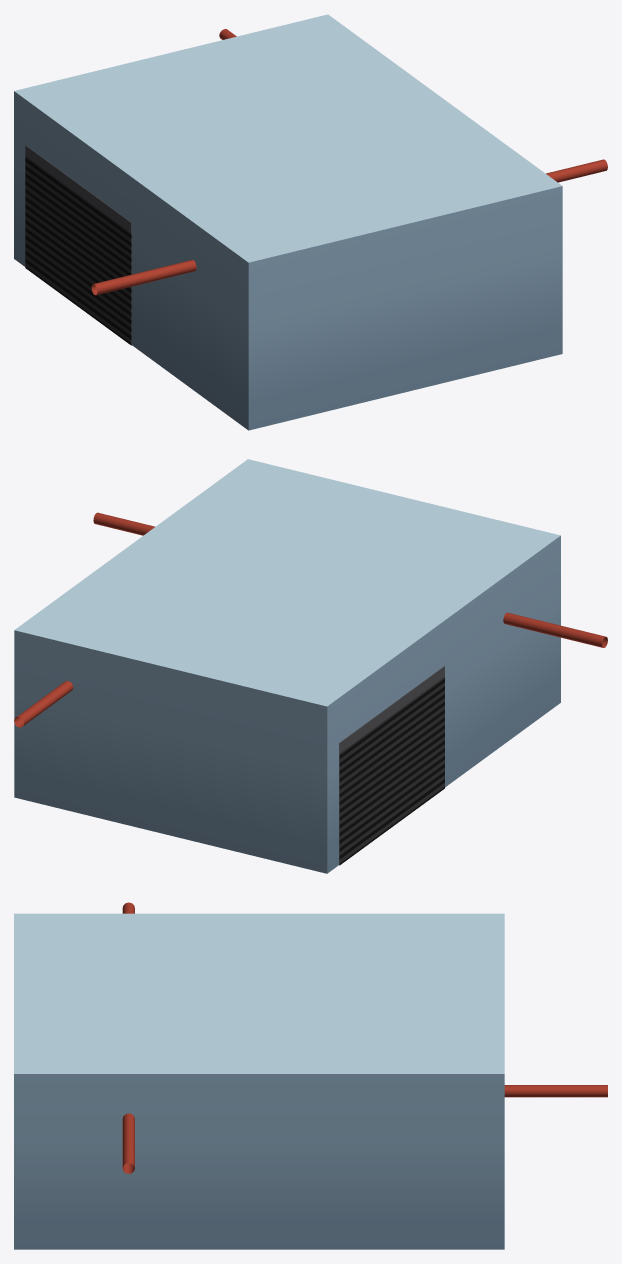
Rendered from WelderFullTools.fbx.
3 renders of one model, top to bottom at view 1: azimuth 30°, elevation 25°; view 2: azimuth 150°, elevation 25°; view 3: azimuth 270°, elevation 25°, orthographic. The views are drawn at different scales.
Visible parts, largest first — view 1: Room, GarageDoor, Vents; view 2: Room, GarageDoor, Vents; view 3: Room, Vents.
Part boxes in pixels (box(x1,y1,x2,y2)): Room: box(14, 14, 562, 430); GarageDoor: box(25, 145, 131, 345); Vents: box(91, 29, 607, 295); Room: box(14, 459, 560, 873); GarageDoor: box(339, 666, 444, 865); Vents: box(14, 512, 607, 727); Room: box(14, 913, 504, 1249); Vents: box(122, 902, 607, 1173).
Bounding box in the file's own units: 116 × 36.38 × 111.
